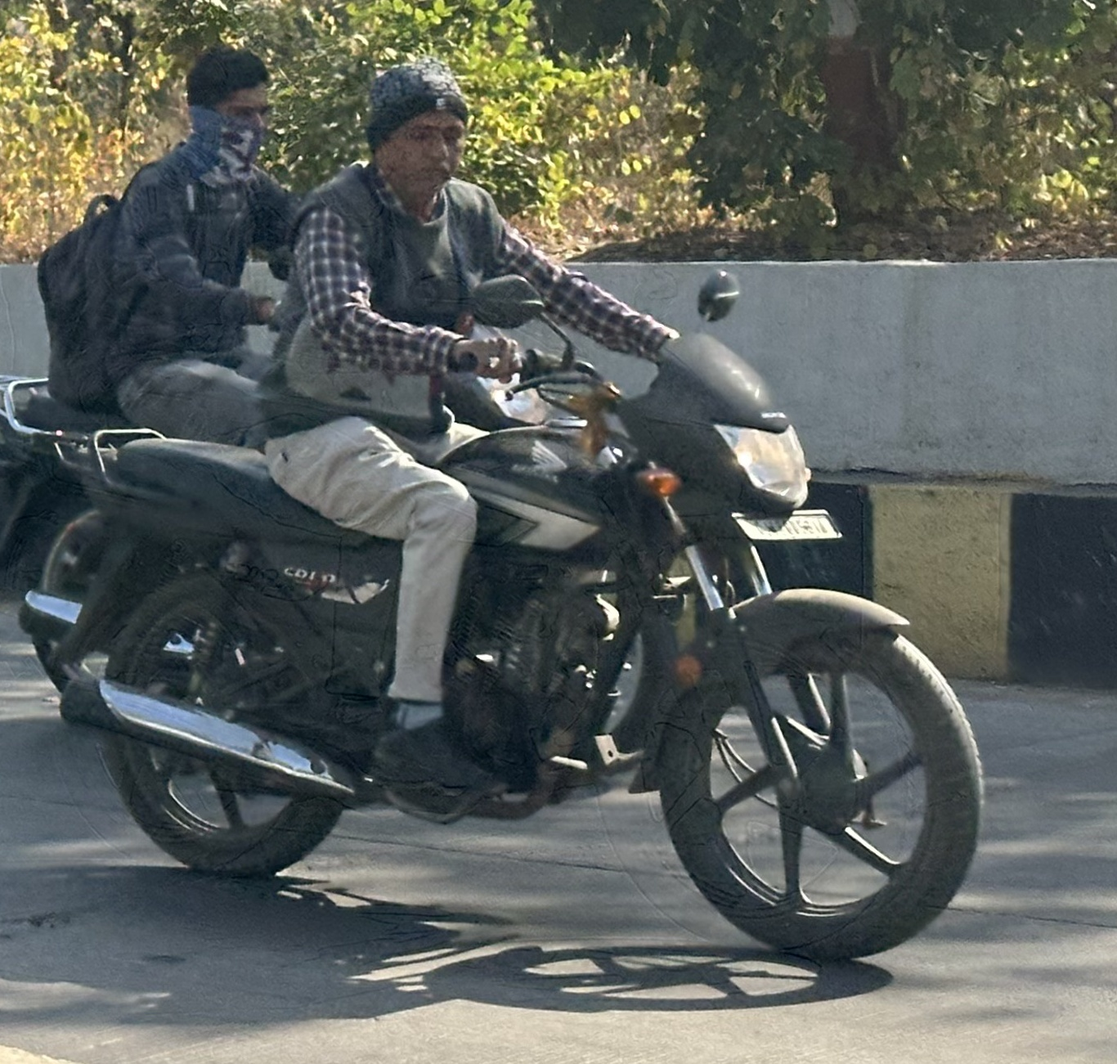BikeWithRider: (9, 42, 1003, 972)
NoHelmet: (345, 49, 489, 203), (169, 35, 286, 171)
